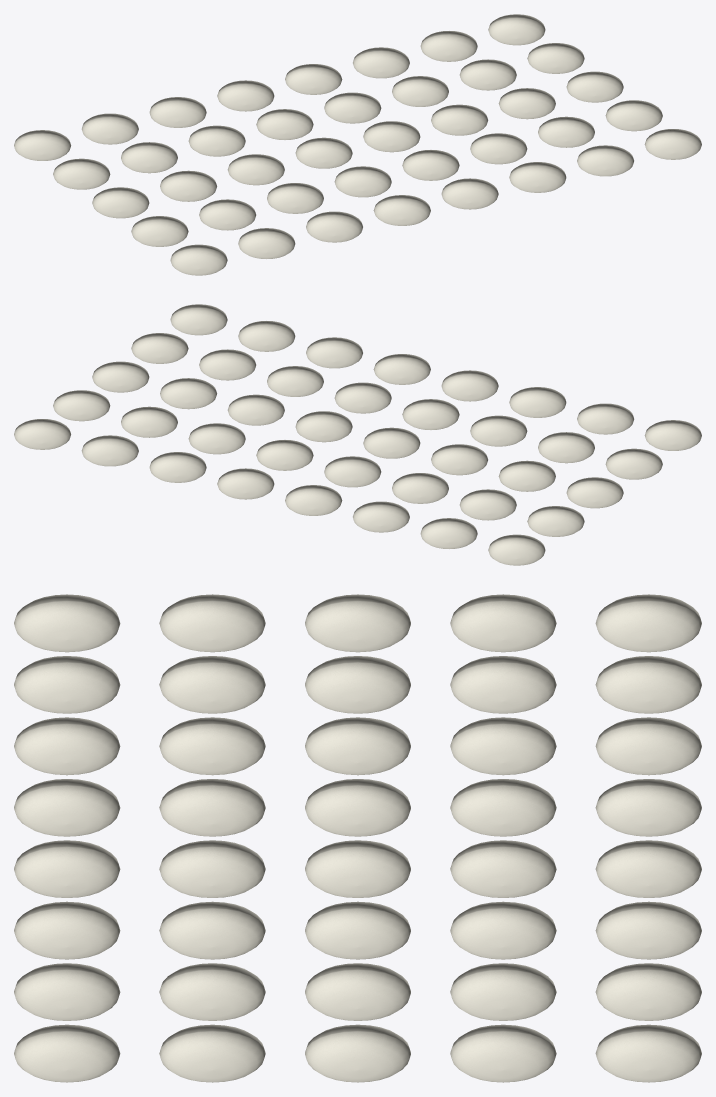
The model's file is WhiteStoneSet_40_Individual_Gameplay.glb.
3 renders of one model, top to bottom at view 1: azimuth 30°, elevation 25°; view 2: azimuth 150°, elevation 25°; view 3: azimuth 270°, elevation 25°, orthographic. The views are drawn at different scales.
Visible parts, largest first — view 1: WhiteStone_10.001, WhiteStone_31.001, WhiteStone_07.001, WhiteStone_34.001, WhiteStone_03.001, WhiteStone_38.001, WhiteStone_01.001, WhiteStone_12.001, WhiteStone_14.001, WhiteStone_27.001, WhiteStone_29.001, WhiteStone_40.001 (+28 smaller); view 2: WhiteStone_15.001, WhiteStone_26.001, WhiteStone_02.001, WhiteStone_39.001, WhiteStone_06.001, WhiteStone_35.001, WhiteStone_08.001, WhiteStone_11.001, WhiteStone_13.001, WhiteStone_28.001, WhiteStone_30.001, WhiteStone_33.001 (+28 smaller); view 3: WhiteStone_17.001, WhiteStone_24.001, WhiteStone_04.001, WhiteStone_05.001, WhiteStone_12.001, WhiteStone_13.001, WhiteStone_28.001, WhiteStone_29.001, WhiteStone_36.001, WhiteStone_37.001, WhiteStone_02.001, WhiteStone_07.001 (+28 smaller).
Part boxes in pixels (x1,y1,x2,y2): WhiteStone_10.001: (199, 199, 256, 230); WhiteStone_31.001: (459, 59, 516, 90); WhiteStone_07.001: (577, 145, 634, 176); WhiteStone_34.001: (81, 113, 138, 144); WhiteStone_03.001: (306, 211, 362, 242); WhiteStone_38.001: (353, 47, 409, 78); WhiteStone_01.001: (170, 244, 227, 275); WhiteStone_12.001: (334, 166, 391, 197); WhiteStone_14.001: (470, 133, 527, 164); WhiteStone_27.001: (188, 125, 245, 156); WhiteStone_29.001: (324, 92, 381, 123); WhiteStone_40.001: (488, 14, 545, 45); WhiteStone_15.001: (199, 349, 256, 380); WhiteStone_26.001: (459, 489, 516, 520); WhiteStone_02.001: (577, 403, 634, 434); WhiteStone_39.001: (81, 435, 138, 466); WhiteStone_06.001: (306, 337, 362, 368); WhiteStone_35.001: (353, 501, 409, 532); WhiteStone_08.001: (170, 304, 227, 335); WhiteStone_11.001: (470, 415, 527, 446); WhiteStone_13.001: (334, 382, 391, 413); WhiteStone_28.001: (324, 456, 381, 487); WhiteStone_30.001: (188, 423, 245, 454); WhiteStone_33.001: (488, 534, 545, 565); WhiteStone_17.001: (305, 594, 410, 652); WhiteStone_24.001: (305, 1024, 410, 1082); WhiteStone_04.001: (14, 779, 120, 836); WhiteStone_05.001: (14, 840, 120, 897); WhiteStone_12.001: (159, 779, 265, 836); WhiteStone_13.001: (159, 840, 265, 897); WhiteStone_28.001: (450, 779, 556, 836); WhiteStone_29.001: (450, 840, 556, 897); WhiteStone_36.001: (595, 779, 701, 836); WhiteStone_37.001: (595, 840, 701, 897); WhiteStone_02.001: (14, 656, 120, 713); WhiteStone_07.001: (14, 963, 120, 1020).
Size of the model in its own units: 0.5798 by 0.019 by 0.3548.
1 material, 1 textured.
